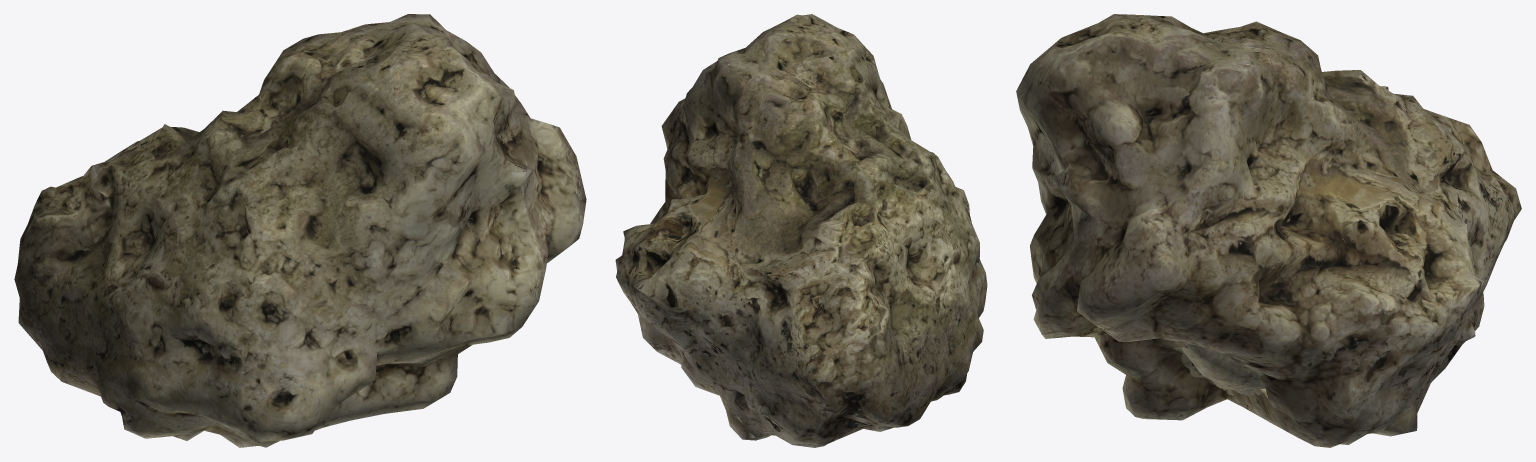
Rendered from Tufa1.fbx.
3 renders of one model, left to right at view 1: azimuth 30°, elevation 25°; view 2: azimuth 150°, elevation 25°; view 3: azimuth 270°, elevation 25°, orthographic. The views are drawn at different scales.
Visible parts, largest first — view 1: TufaLOD1_Baked; view 2: TufaLOD1_Baked; view 3: TufaLOD1_Baked.
Part boxes in pixels (<box>): TufaLOD1_Baked: <box>14,14,586,447</box>; TufaLOD1_Baked: <box>615,14,987,447</box>; TufaLOD1_Baked: <box>1016,14,1521,447</box>.
Bounding box in the file's own units: 343 × 318 × 331.
